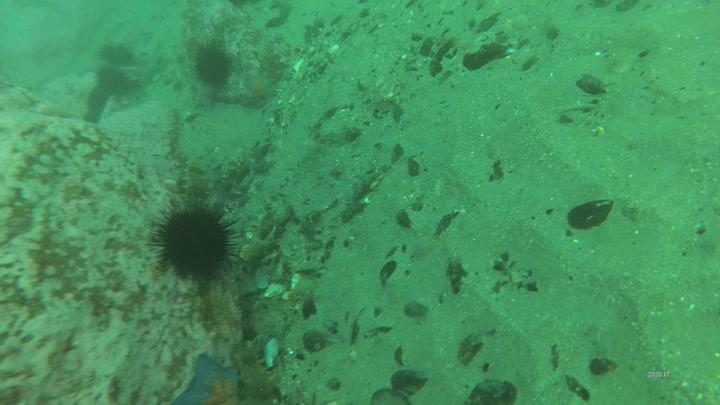urchin: (145, 196, 232, 285), (188, 43, 233, 86)
